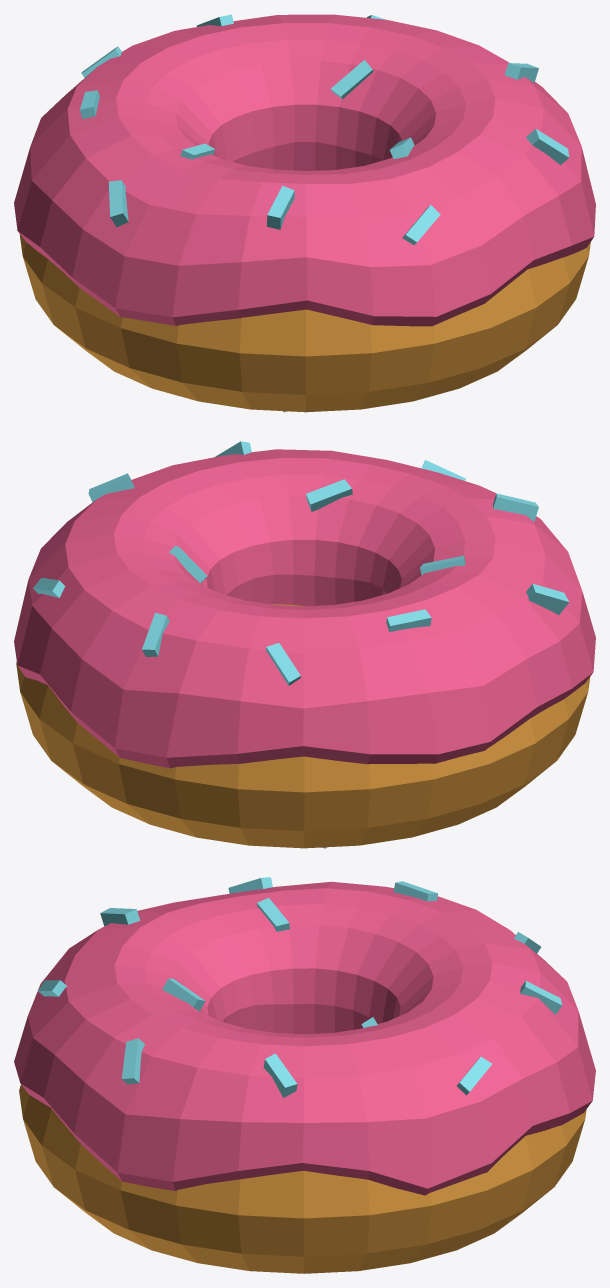
File: donutfull.fbx
3 renders of one model, top to bottom at view 1: azimuth 30°, elevation 25°; view 2: azimuth 150°, elevation 25°; view 3: azimuth 270°, elevation 25°, orthographic.
Parts seen in each view (by area): view 1: Donut_01; view 2: Donut_01; view 3: Donut_01.
Boxes of the visible parts, x1,y1,x2,y2 form: Donut_01: (14, 14, 595, 412); Donut_01: (14, 441, 595, 848); Donut_01: (14, 877, 595, 1273).
Bounding box in the file's own units: 985 × 530 × 1001.
